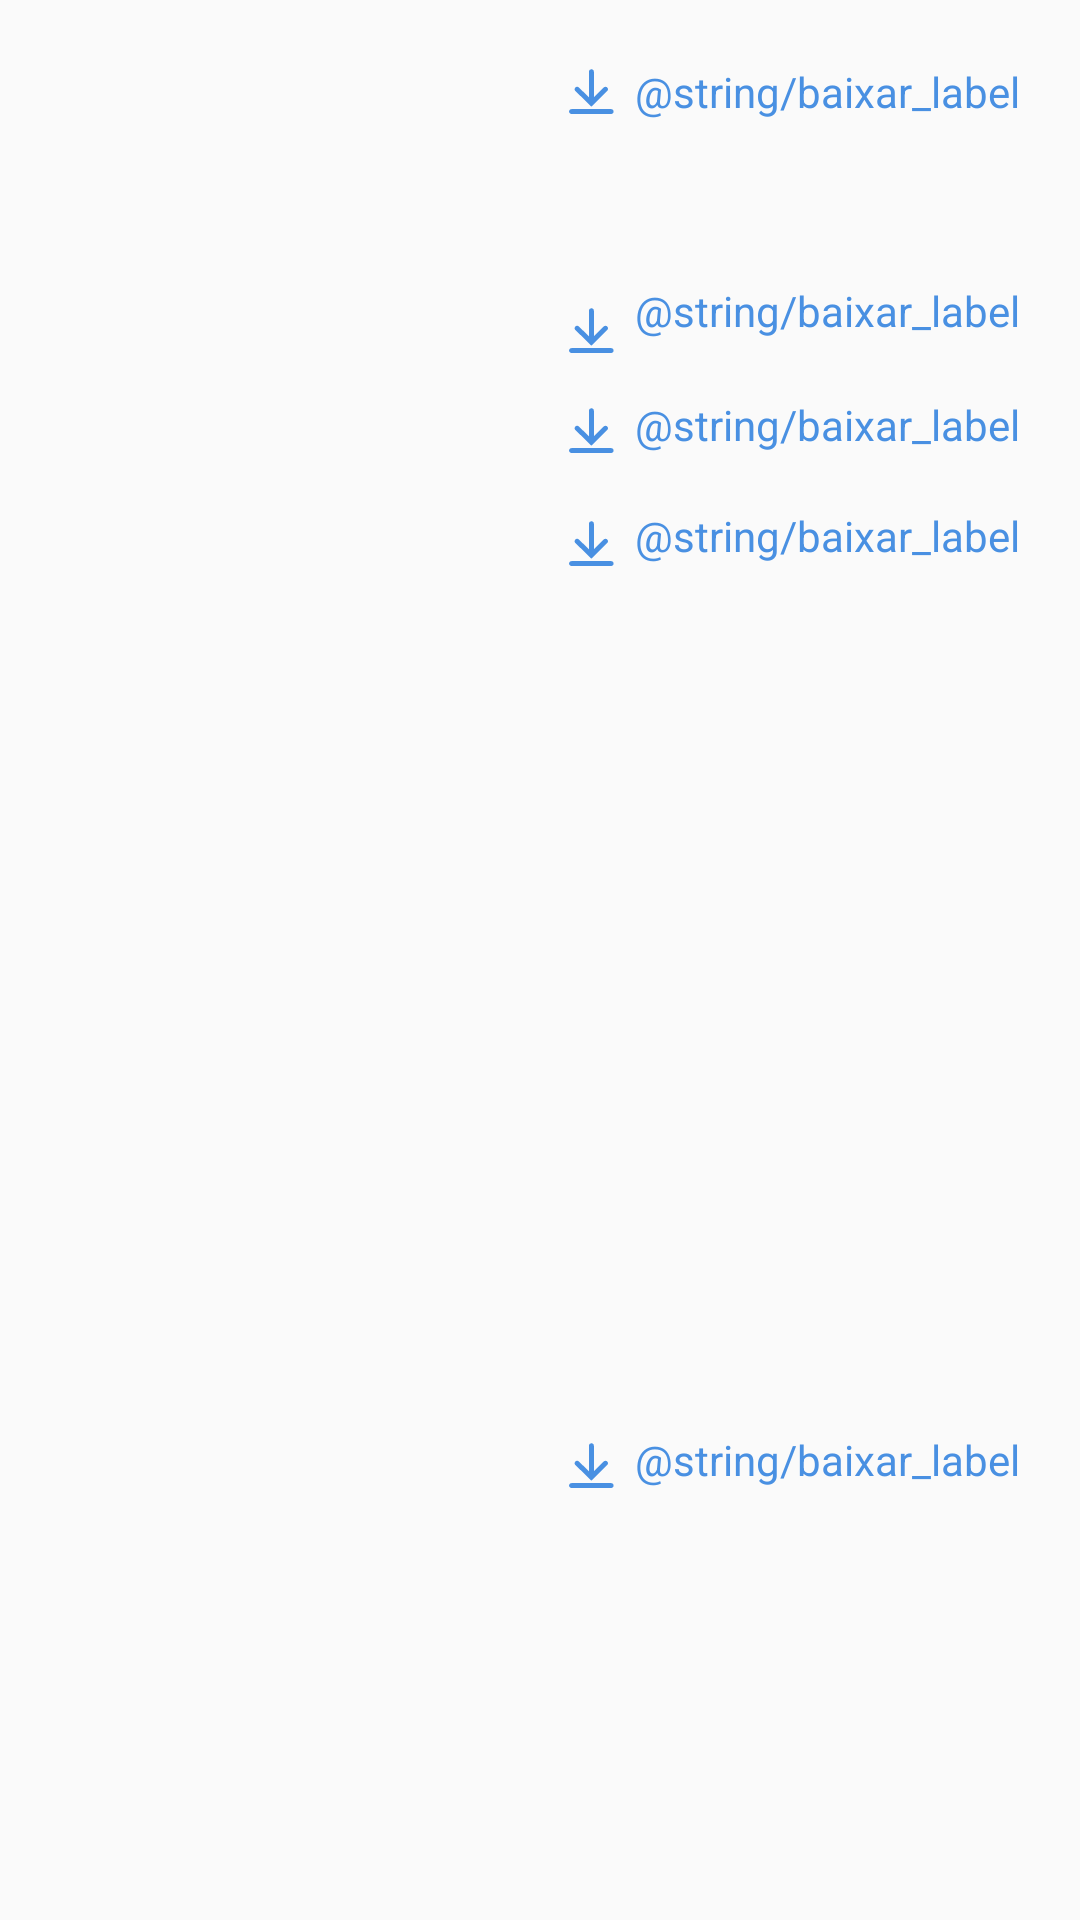

Screen size 1080×1920. Icon name, then its box in pixels as [x1=x1, y1=y1, x2=x2, y2=y2]:
seta baixar: [x1=569, y1=69, x2=614, y2=114], [x1=569, y1=308, x2=614, y2=353], [x1=569, y1=408, x2=614, y2=453], [x1=569, y1=521, x2=614, y2=566], [x1=569, y1=1443, x2=614, y2=1488]
